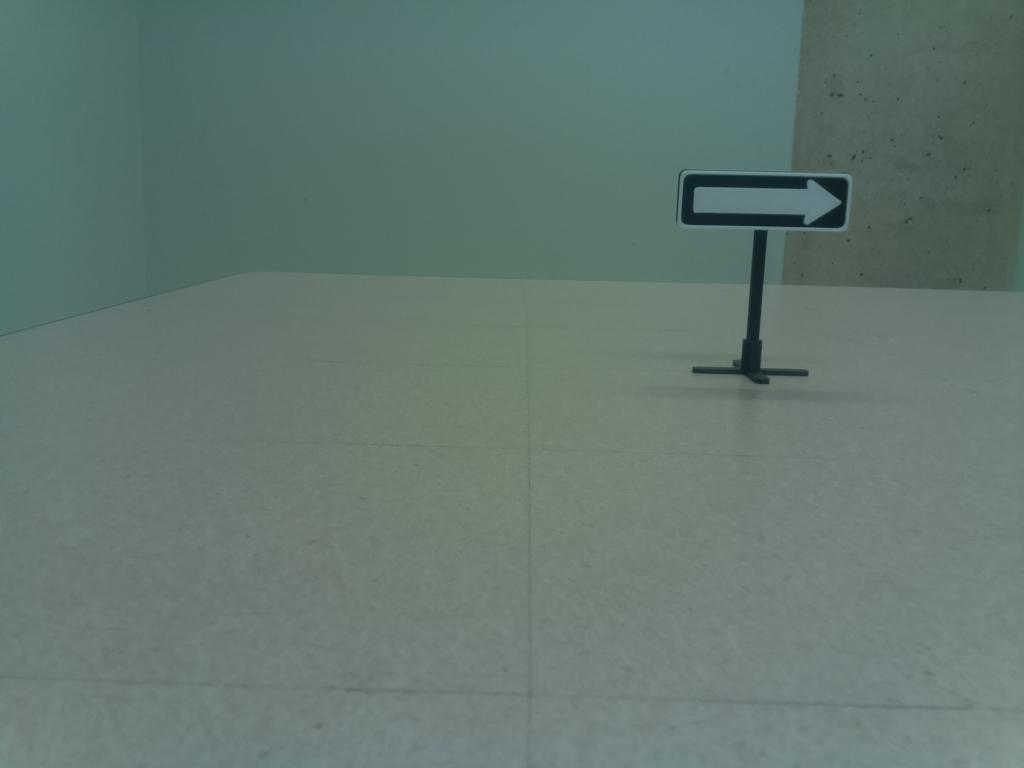sign_oneway_right: (672, 164, 856, 238)
